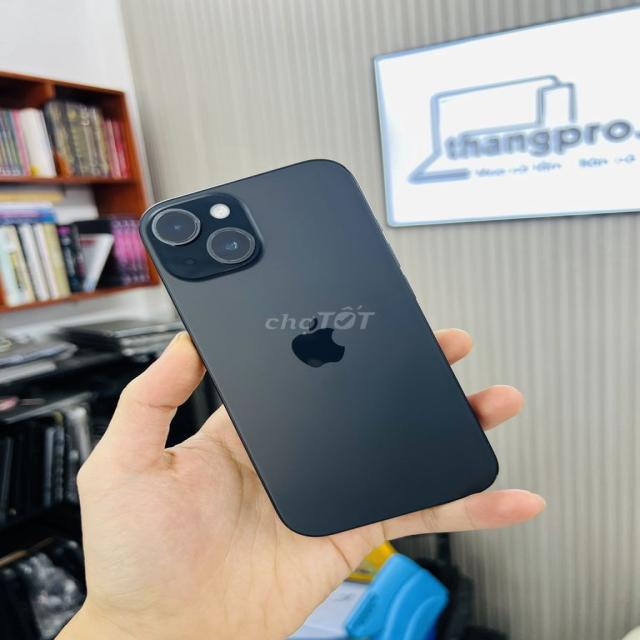gen_15: (127, 151, 521, 547)
scratch: (145, 200, 263, 266)
